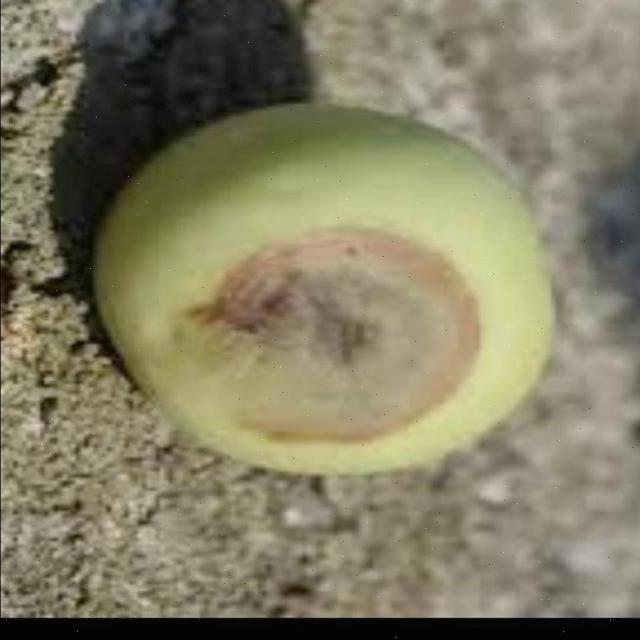Blossom End Rot Fruit: (119, 151, 323, 298)
